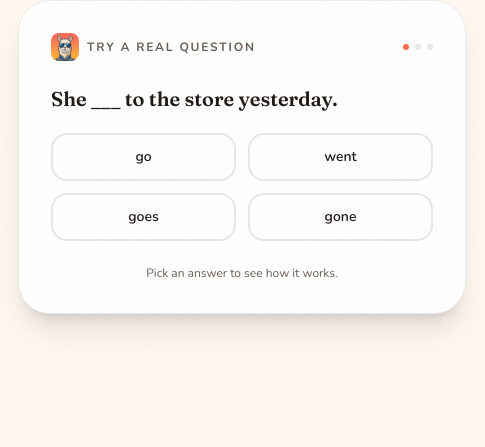
Test: LessonDemo › shows corrective feedback naming the right answer when a wrong option is picked
Click the button "go" at (144, 157), box [51,133,236,181]
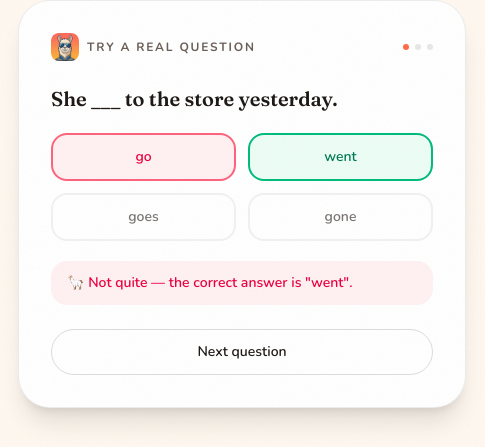
Now the text "🦙 Not quite — the correct answer is \"went\"." is shown, box [51,261,433,305]
